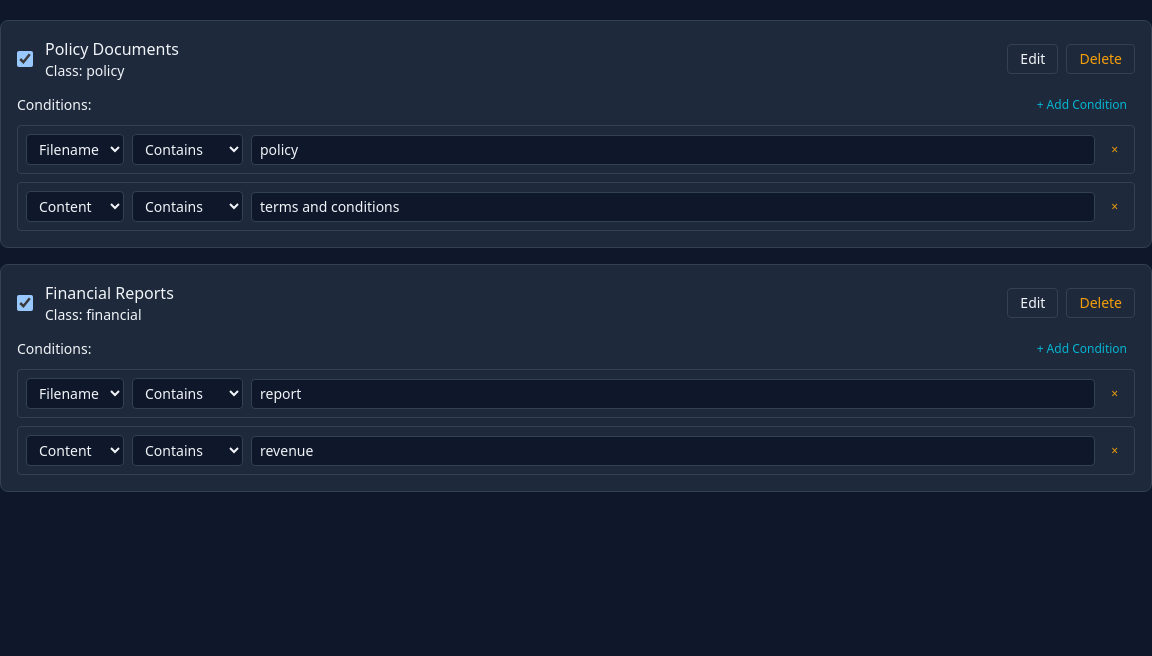
Test: RulesBuilder › can edit an existing rule
Note: Click edit button for first rule
Click the button "Edit" in the row of "Policy Documents" at (1033, 59), box top-left (1007, 44), bottom-right (1058, 74)
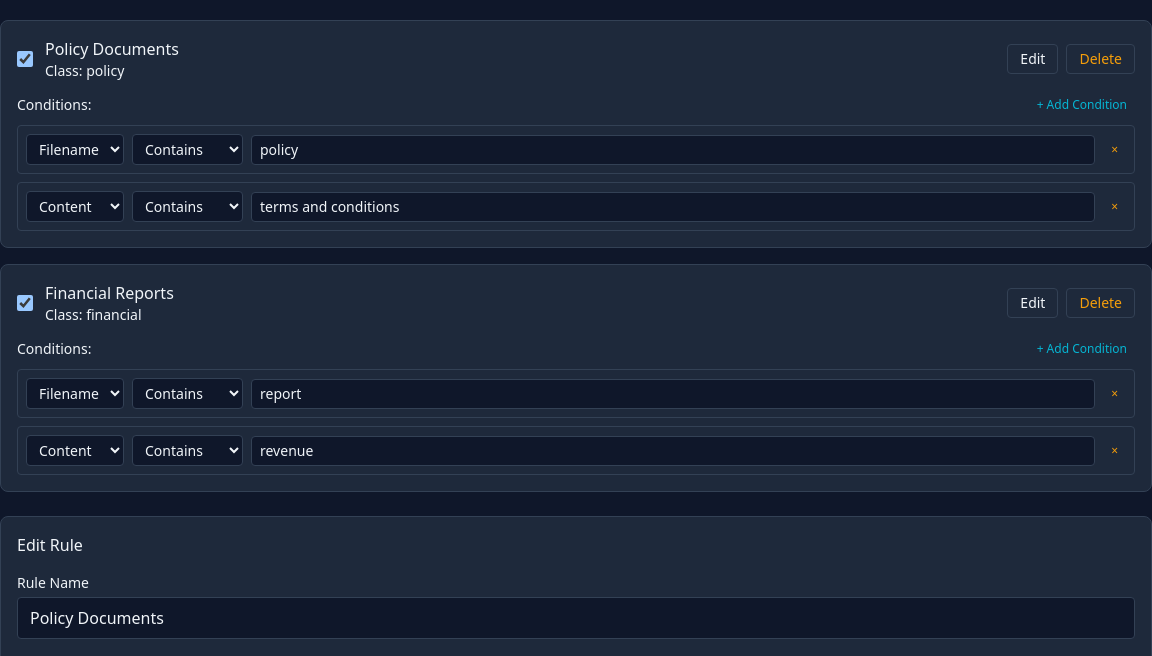
Now the heading "Edit Rule" is shown, box top-left (17, 534), bottom-right (83, 556)
Note: Update rule name
Replace the text in the field showing "Policy Documents" below "Rule Name" with "Updated Policy Documents" at (576, 618), box top-left (17, 597), bottom-right (1135, 639)
(page scrolled)
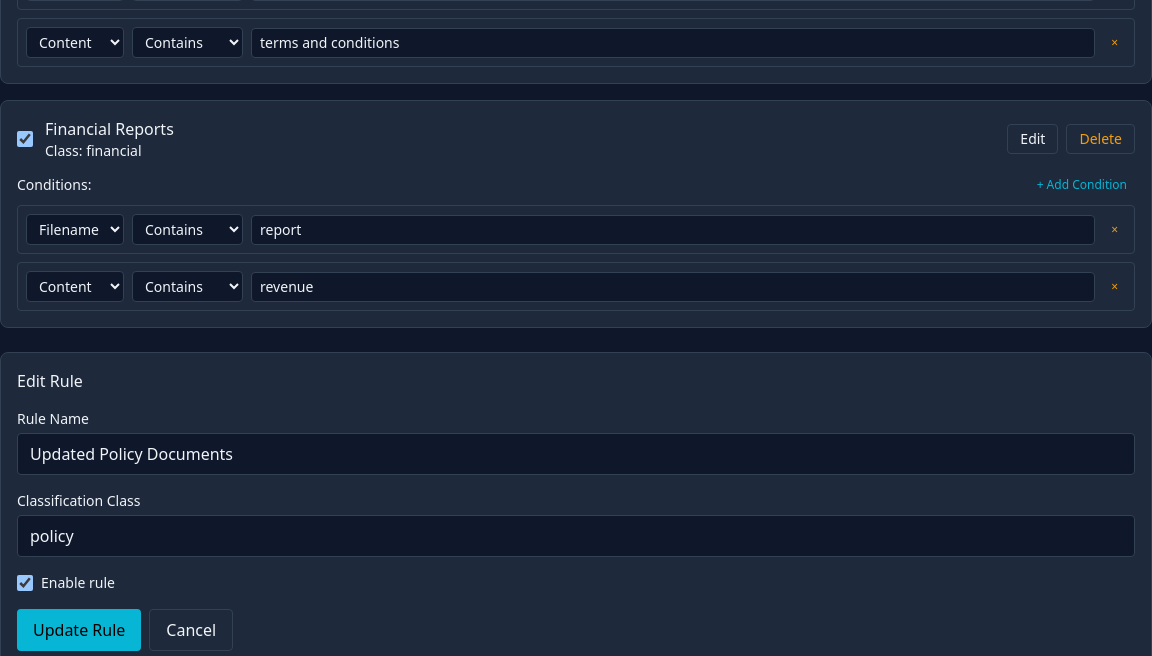
Note: Submit update
Click the button "Update Rule" at (79, 630), box top-left (17, 609), bottom-right (141, 651)
(page scrolled)
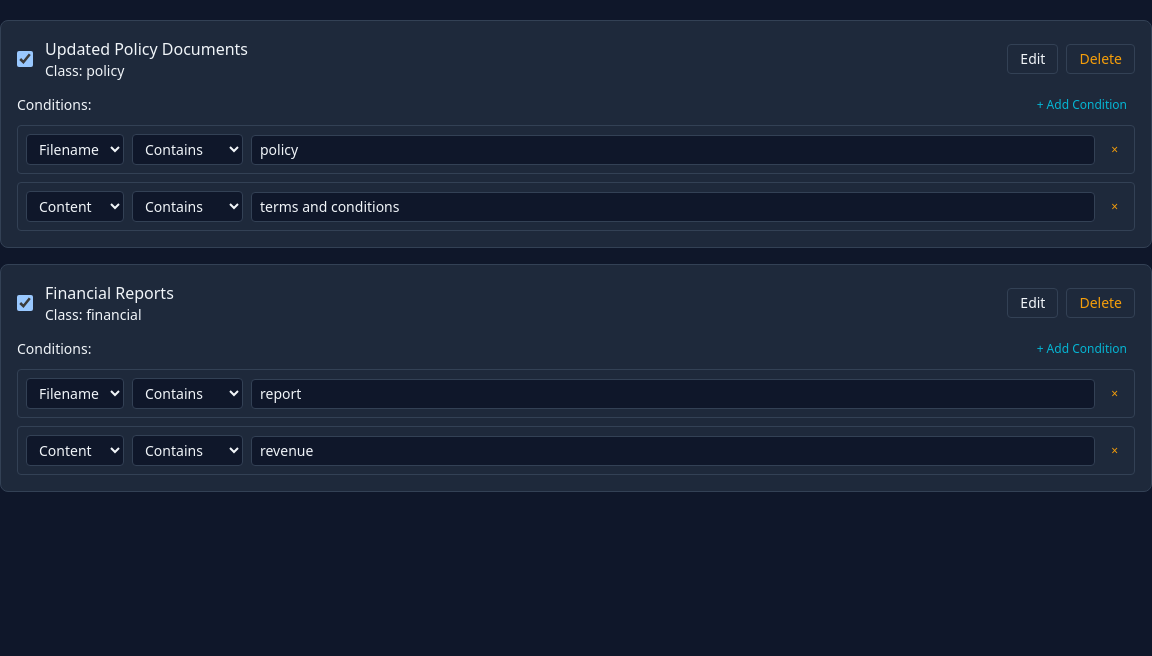
Now the heading "Updated Policy Documents" is shown, box top-left (45, 37), bottom-right (248, 61)
